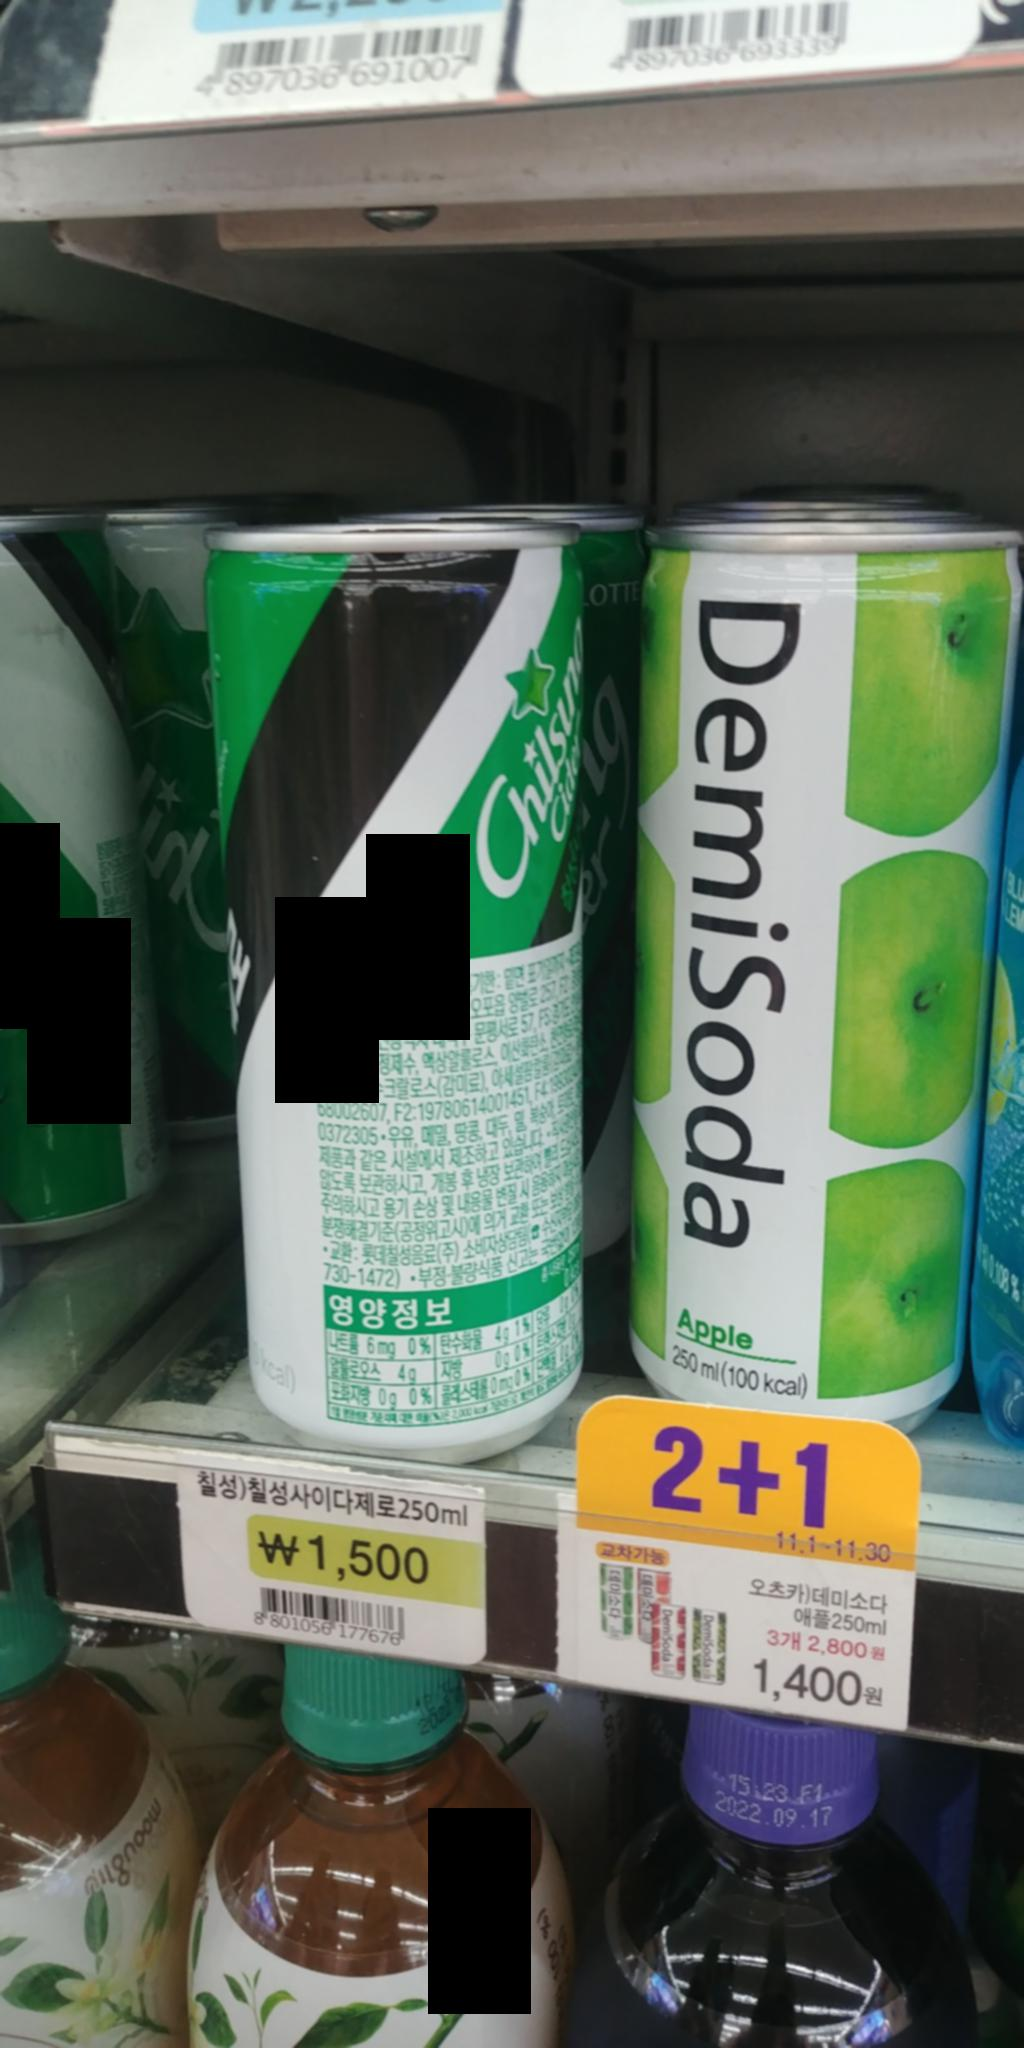chilsungcider_zero: (179, 512, 606, 1472)
